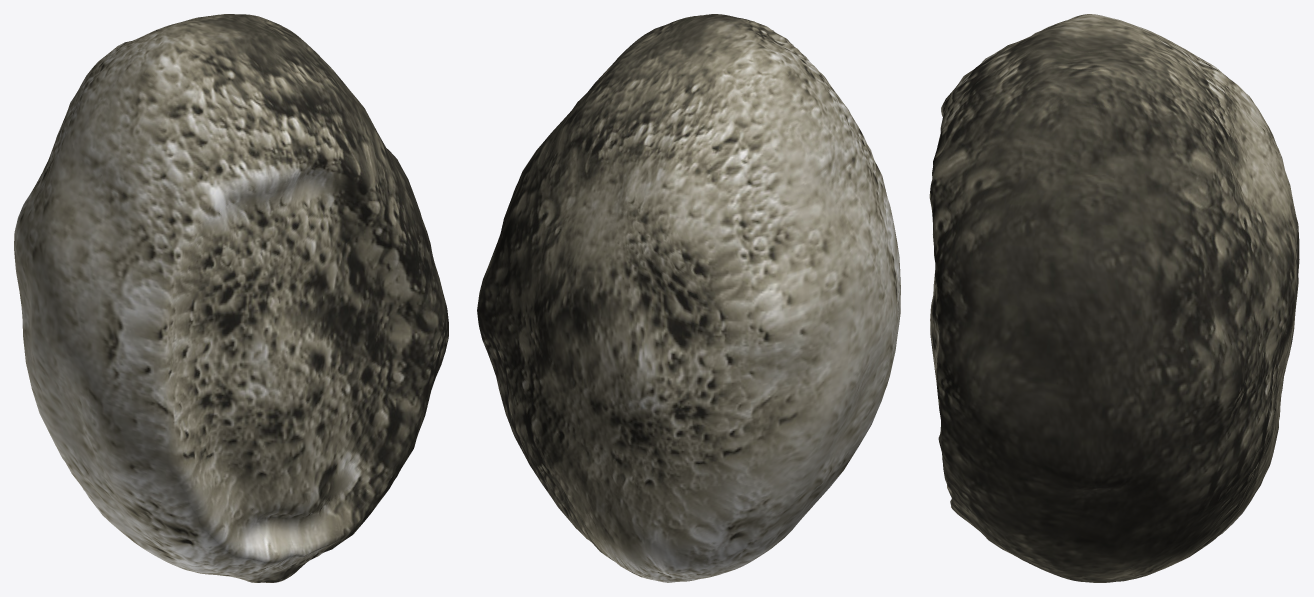
The model's file is hyperion.gltf.
The picture shows the model from 3 angles, left to right: view 1: azimuth 30°, elevation 25°; view 2: azimuth 150°, elevation 25°; view 3: azimuth 270°, elevation 25°; orthographic projection. The views are drawn at different scales.
Visible parts, largest first — view 1: Hyperion; view 2: Hyperion; view 3: Hyperion.
Boxes of the visible parts, x1,y1,x2,y2 form: Hyperion: [14, 14, 448, 582]; Hyperion: [477, 14, 900, 582]; Hyperion: [929, 14, 1299, 582].
Bounding box in the file's own units: 275 × 391 × 250.
1 material, 1 textured.
